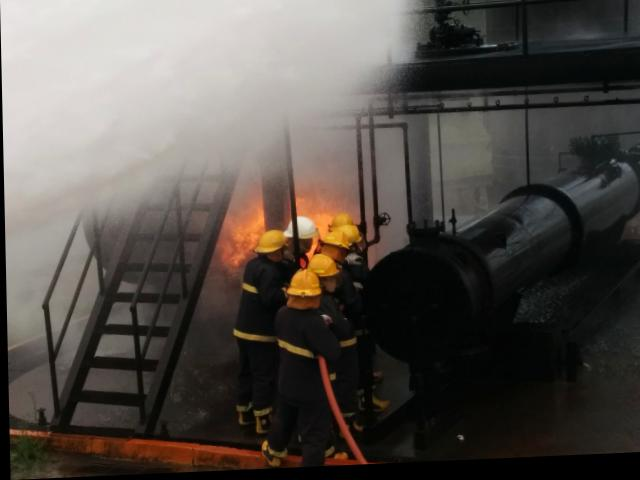fire: (217, 188, 352, 276)
